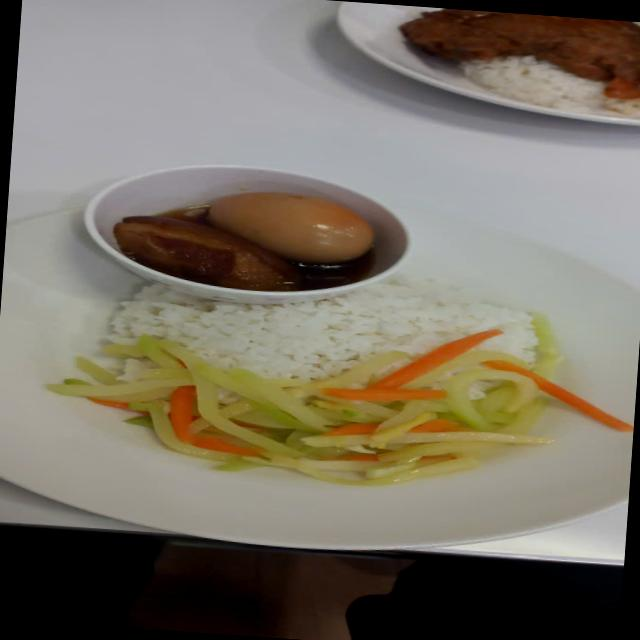com: (106, 278, 537, 381)
kho trung: (112, 192, 373, 290)
rau: (50, 318, 632, 484)
suon mieng: (400, 8, 640, 99)
